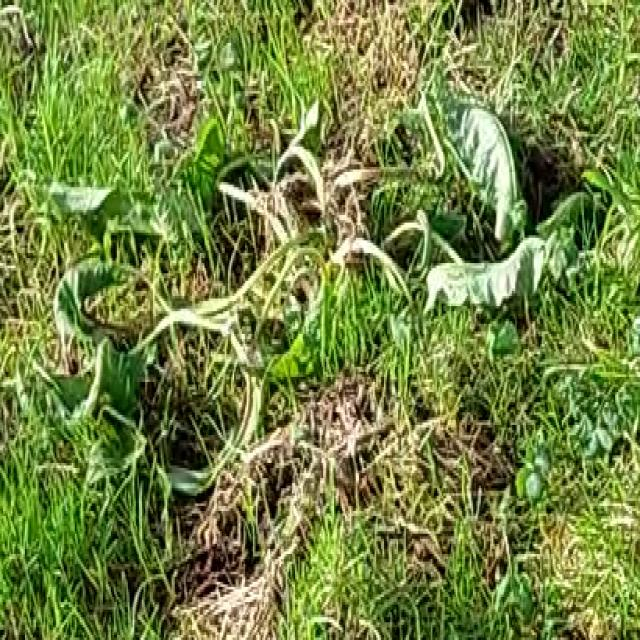organic waste: (31, 101, 556, 524)
